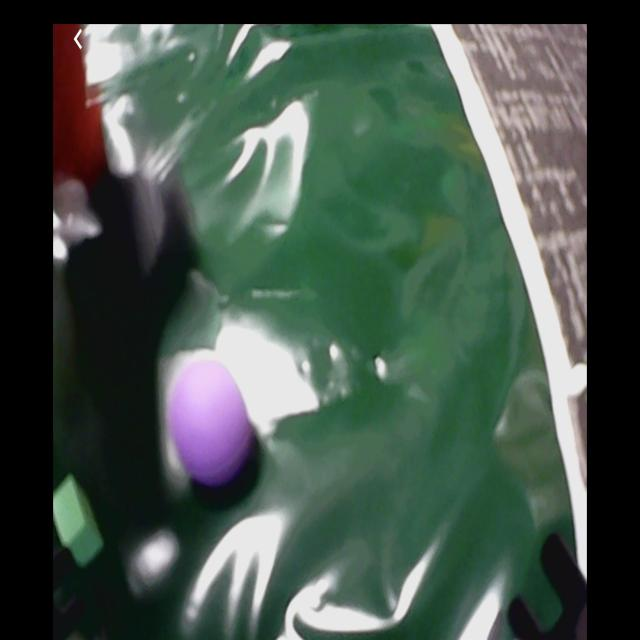ball: (174, 360, 253, 486)
